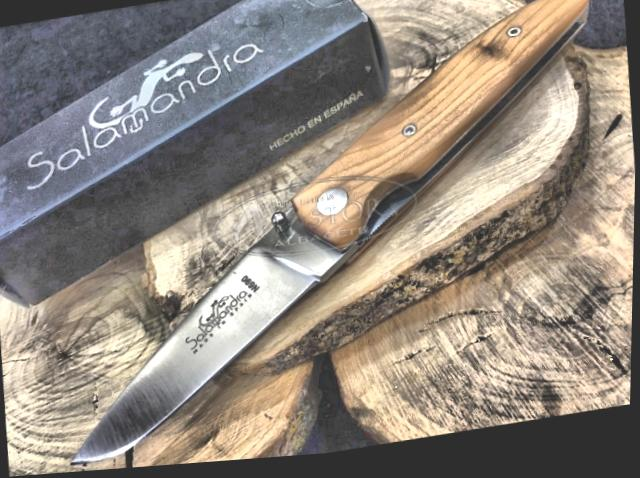knife: (42, 191, 376, 475)
